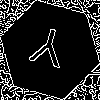Y: (25, 25, 69, 77)
